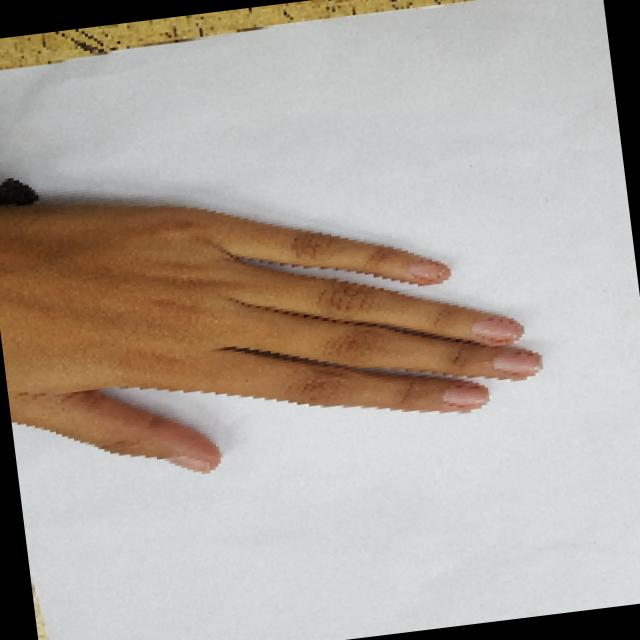Nail: (471, 318, 522, 338), (491, 352, 538, 371), (441, 385, 487, 403), (166, 455, 210, 472), (407, 261, 440, 278)
